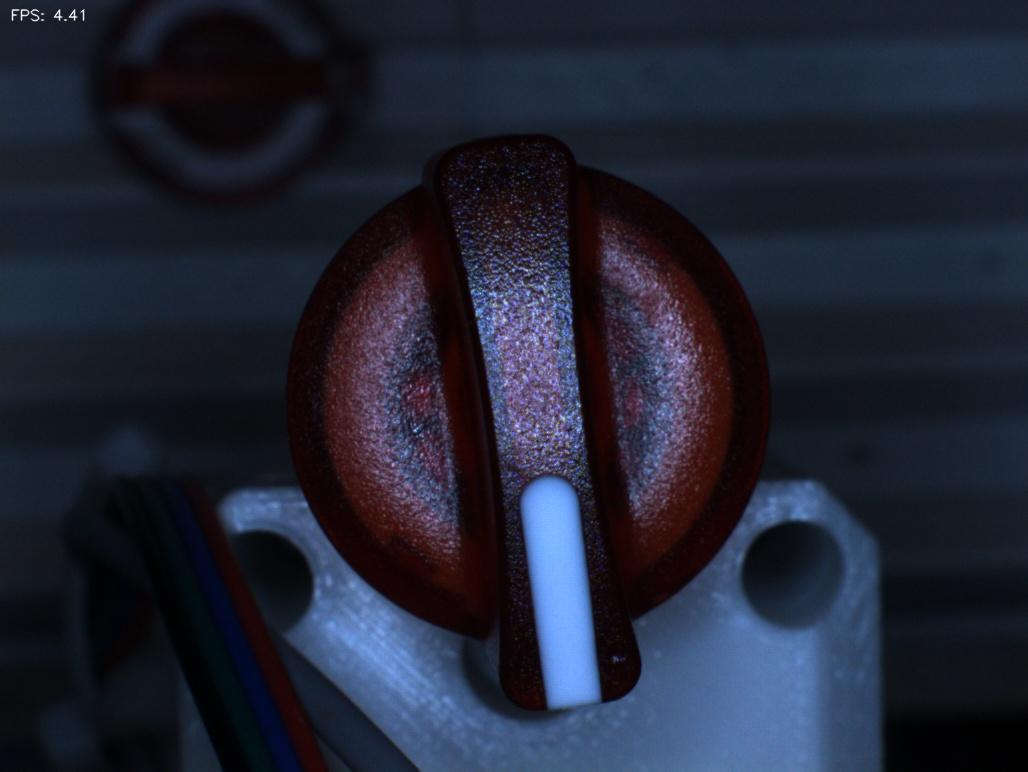Choc: (590, 616, 666, 695)
